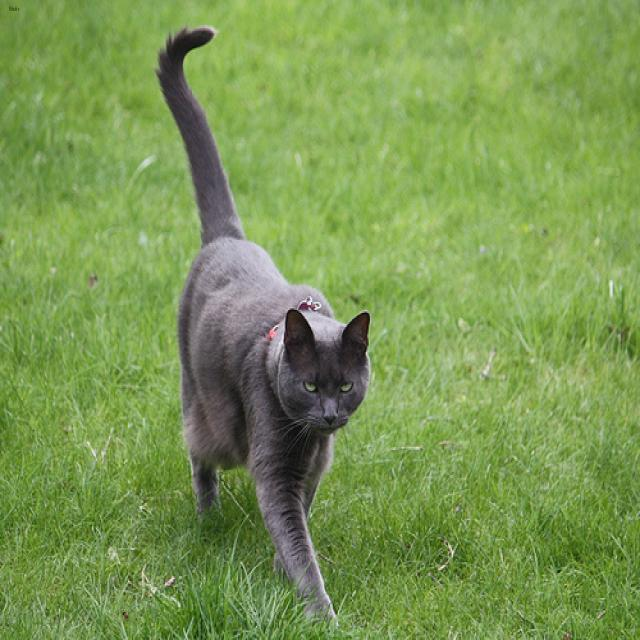Russian_Blue: (271, 301, 376, 441)
